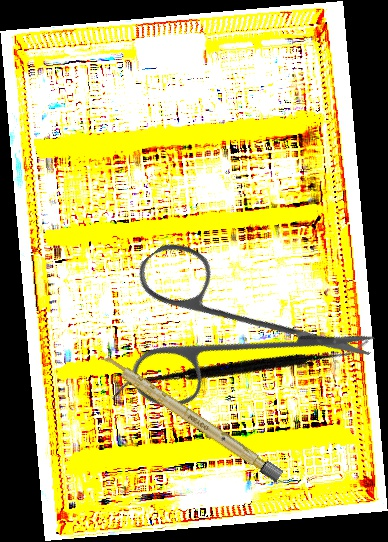Iris Scissors: (75, 178, 381, 483)
Scalpel Handle: (98, 351, 284, 483)
Spatula Surgical: (110, 244, 371, 496)
